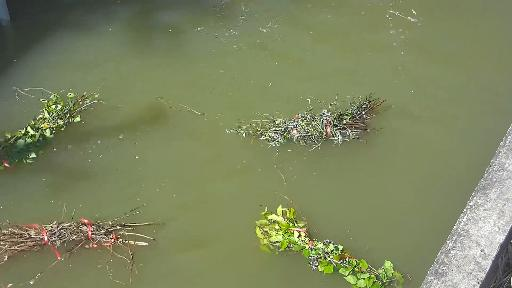twig: (255, 200, 413, 288), (0, 206, 166, 288), (1, 80, 107, 173), (228, 93, 387, 154)
